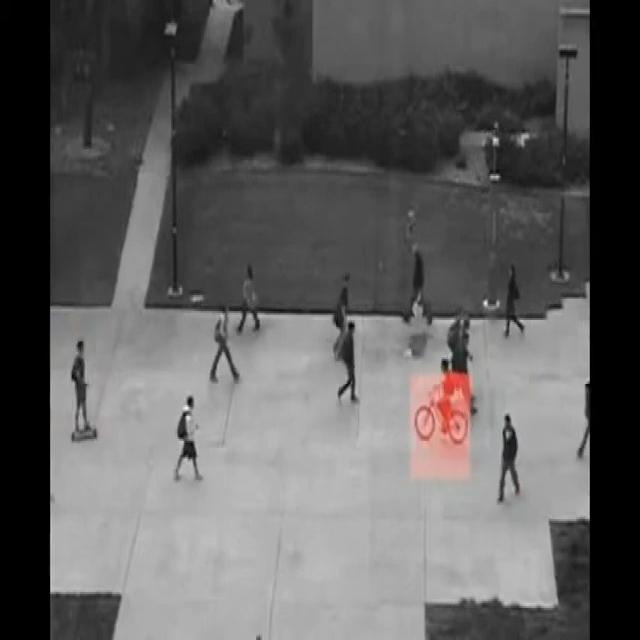anamoly: (398, 350, 487, 459)
